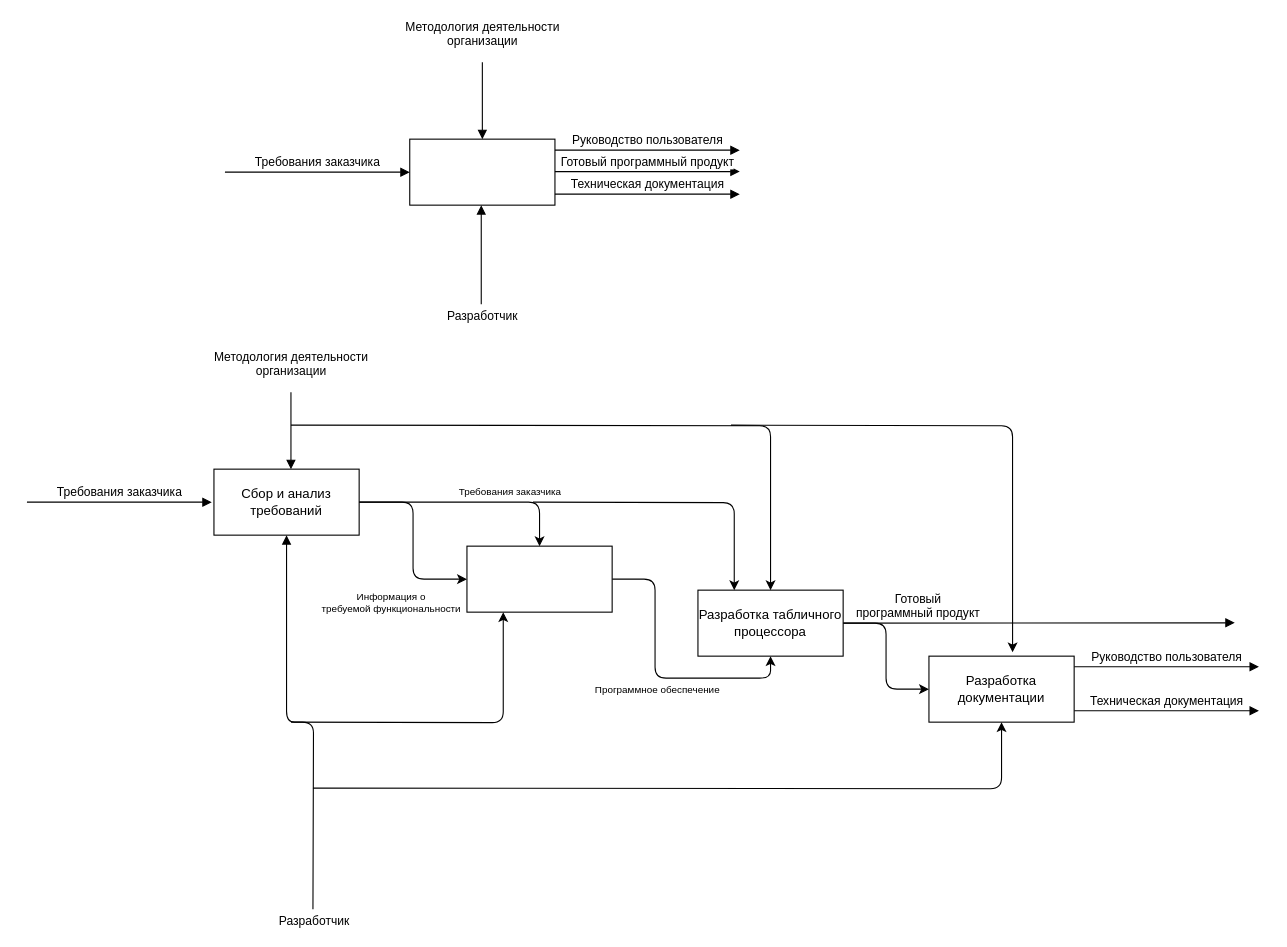
The diagram is 1287 pixels wide and 947 high, and some of its shapes have lost their labels. Here are the shapes that lost their labels. From the top down, the centre of each, then its label:
point 482,171: Разработка и внедрение табличного процессора
point 539,578: Поиск и подготовка инструментов для разработки
